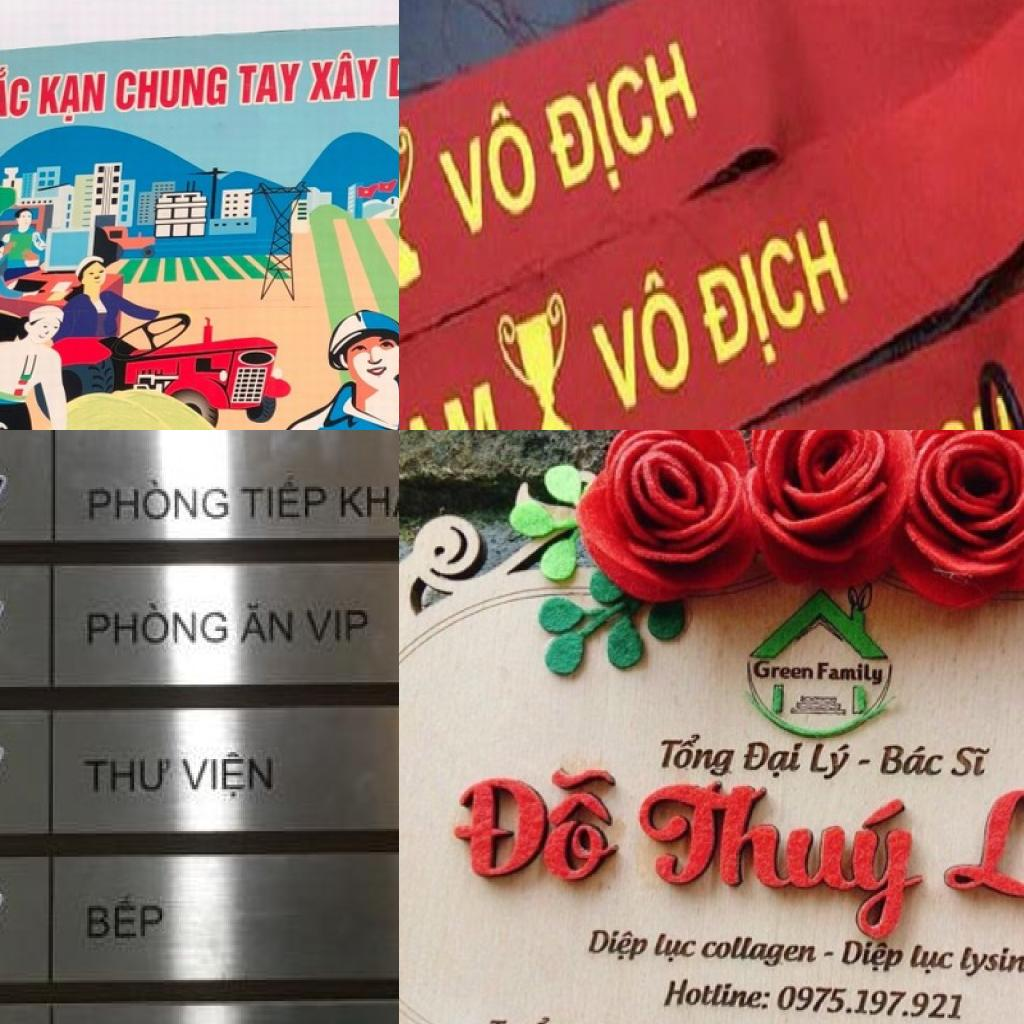text: (630, 772, 930, 944), (538, 28, 708, 226), (689, 205, 861, 396), (450, 752, 622, 894), (578, 254, 700, 422), (424, 84, 546, 246), (932, 786, 1024, 914), (78, 598, 232, 654), (82, 472, 234, 528), (776, 982, 968, 1024), (399, 366, 514, 430), (112, 64, 232, 114), (177, 745, 277, 803), (237, 470, 333, 528), (78, 750, 177, 798), (698, 932, 820, 970), (661, 975, 773, 1016), (306, 48, 386, 105), (83, 892, 170, 943), (35, 71, 110, 127), (656, 730, 741, 776), (335, 470, 399, 528), (236, 598, 298, 652), (301, 603, 376, 647), (236, 60, 304, 108), (582, 924, 653, 968), (875, 741, 949, 781), (741, 738, 806, 781), (953, 942, 1024, 981), (837, 940, 907, 978), (806, 740, 858, 780), (650, 927, 702, 967), (814, 663, 886, 690), (0, 64, 32, 123), (946, 743, 994, 781), (906, 944, 956, 980), (752, 662, 814, 680), (481, 1011, 564, 1024)
